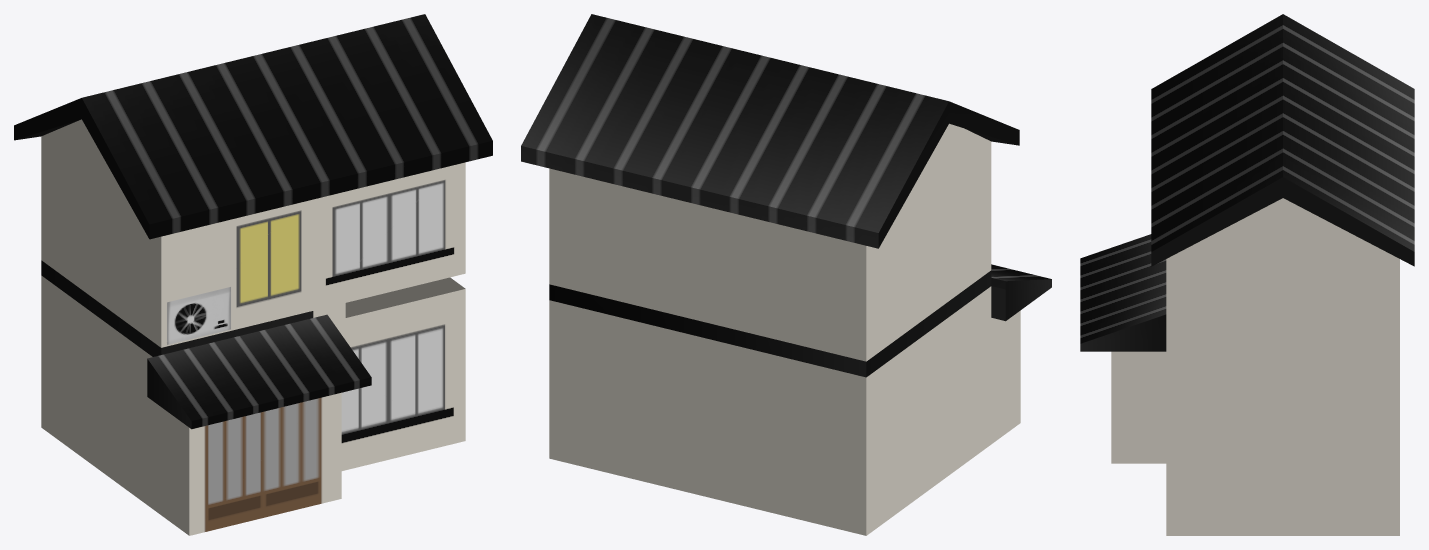
The model's file is building8.fbx.
3 renders of one model, left to right at view 1: azimuth 30°, elevation 25°; view 2: azimuth 150°, elevation 25°; view 3: azimuth 270°, elevation 25°, orthographic. The views are drawn at different scales.
Parts seen in each view (by area): view 1: pCube1; view 2: pCube1; view 3: pCube1.
Part boxes in pixels (x1,y1,x2,y2): pCube1: (14, 14, 492, 535); pCube1: (521, 14, 1051, 535); pCube1: (1080, 14, 1414, 535).
Size of the model in its own units: 465 by 490 by 403.
